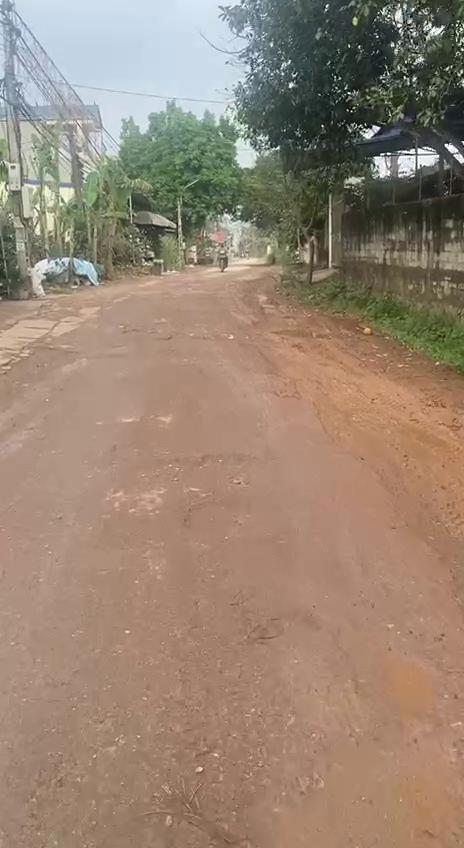pothole: (370, 642, 464, 737)
